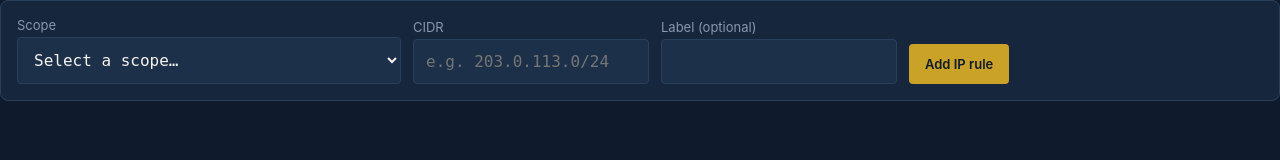
Test case: CreateIpRuleForm › resets every field, including collapsing the userId field, after a successful submit
The image size is (1280, 160).
Select "User — applies to one specific user" in the dropdown labelled "Scope". click: (209, 60)
box: [17,37,401,84]
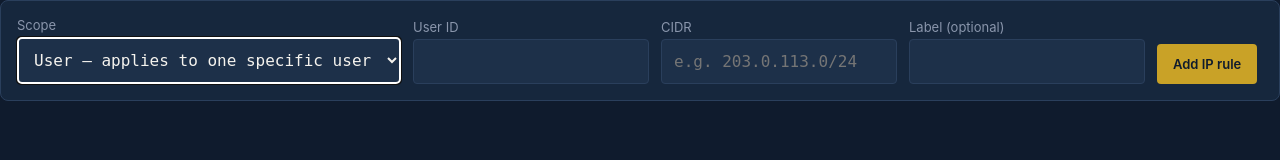
Type "user-42" into the field labelled "User ID". click: (531, 62)
box: [413,39,649,84]
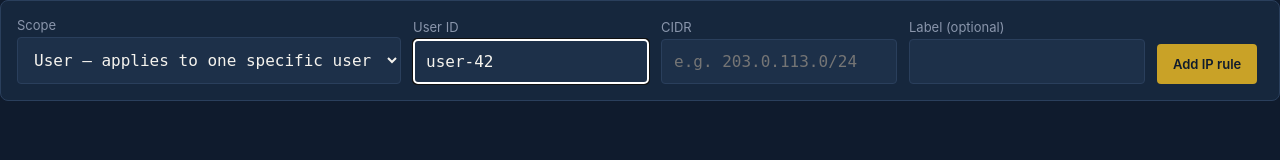
Type "203.0.113.0/24" into the field labelled "CIDR". click: (779, 62)
box: [661,39,897,84]
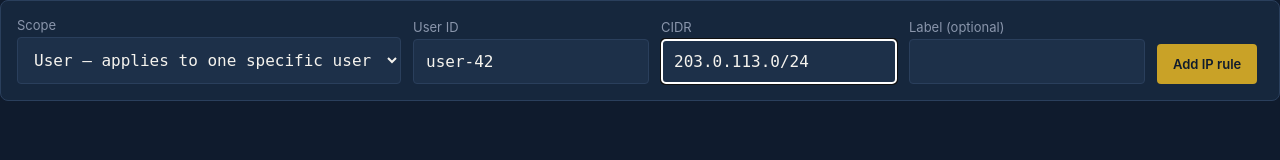
Click the button "Add IP rule". click: (1207, 64)
box: [1157,44,1257,84]
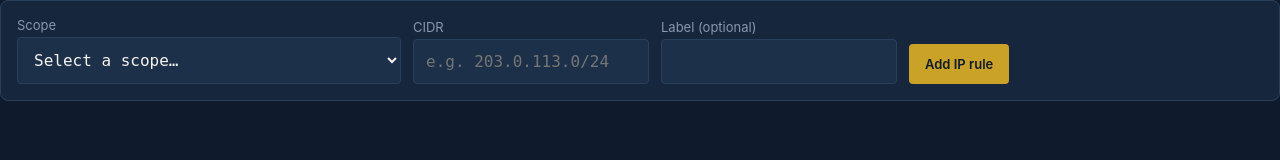
Expected: the field labelled "CIDR" is empty, [413,39,649,84]
Expected: the label labelled "User ID" is gone
